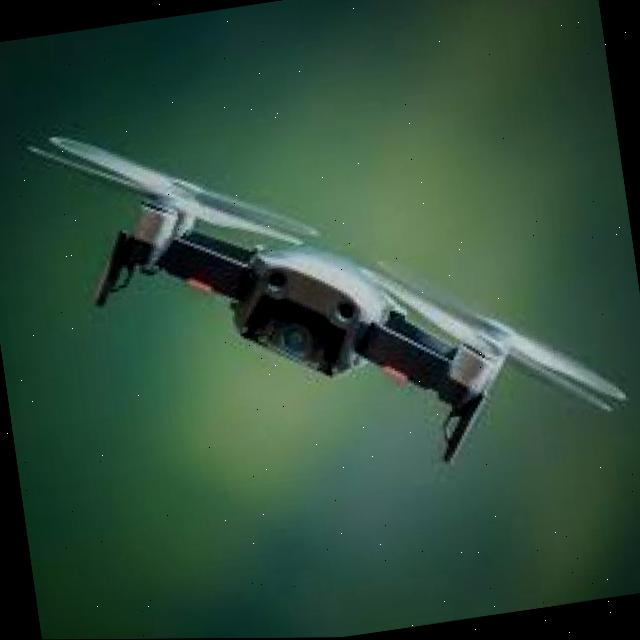drone: (12, 47, 632, 544)
